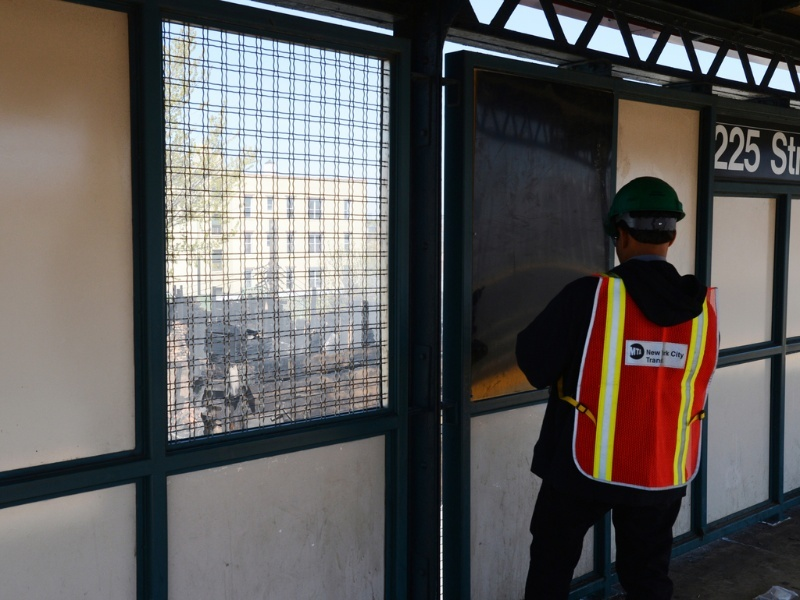Baret: (607, 177, 686, 235)
